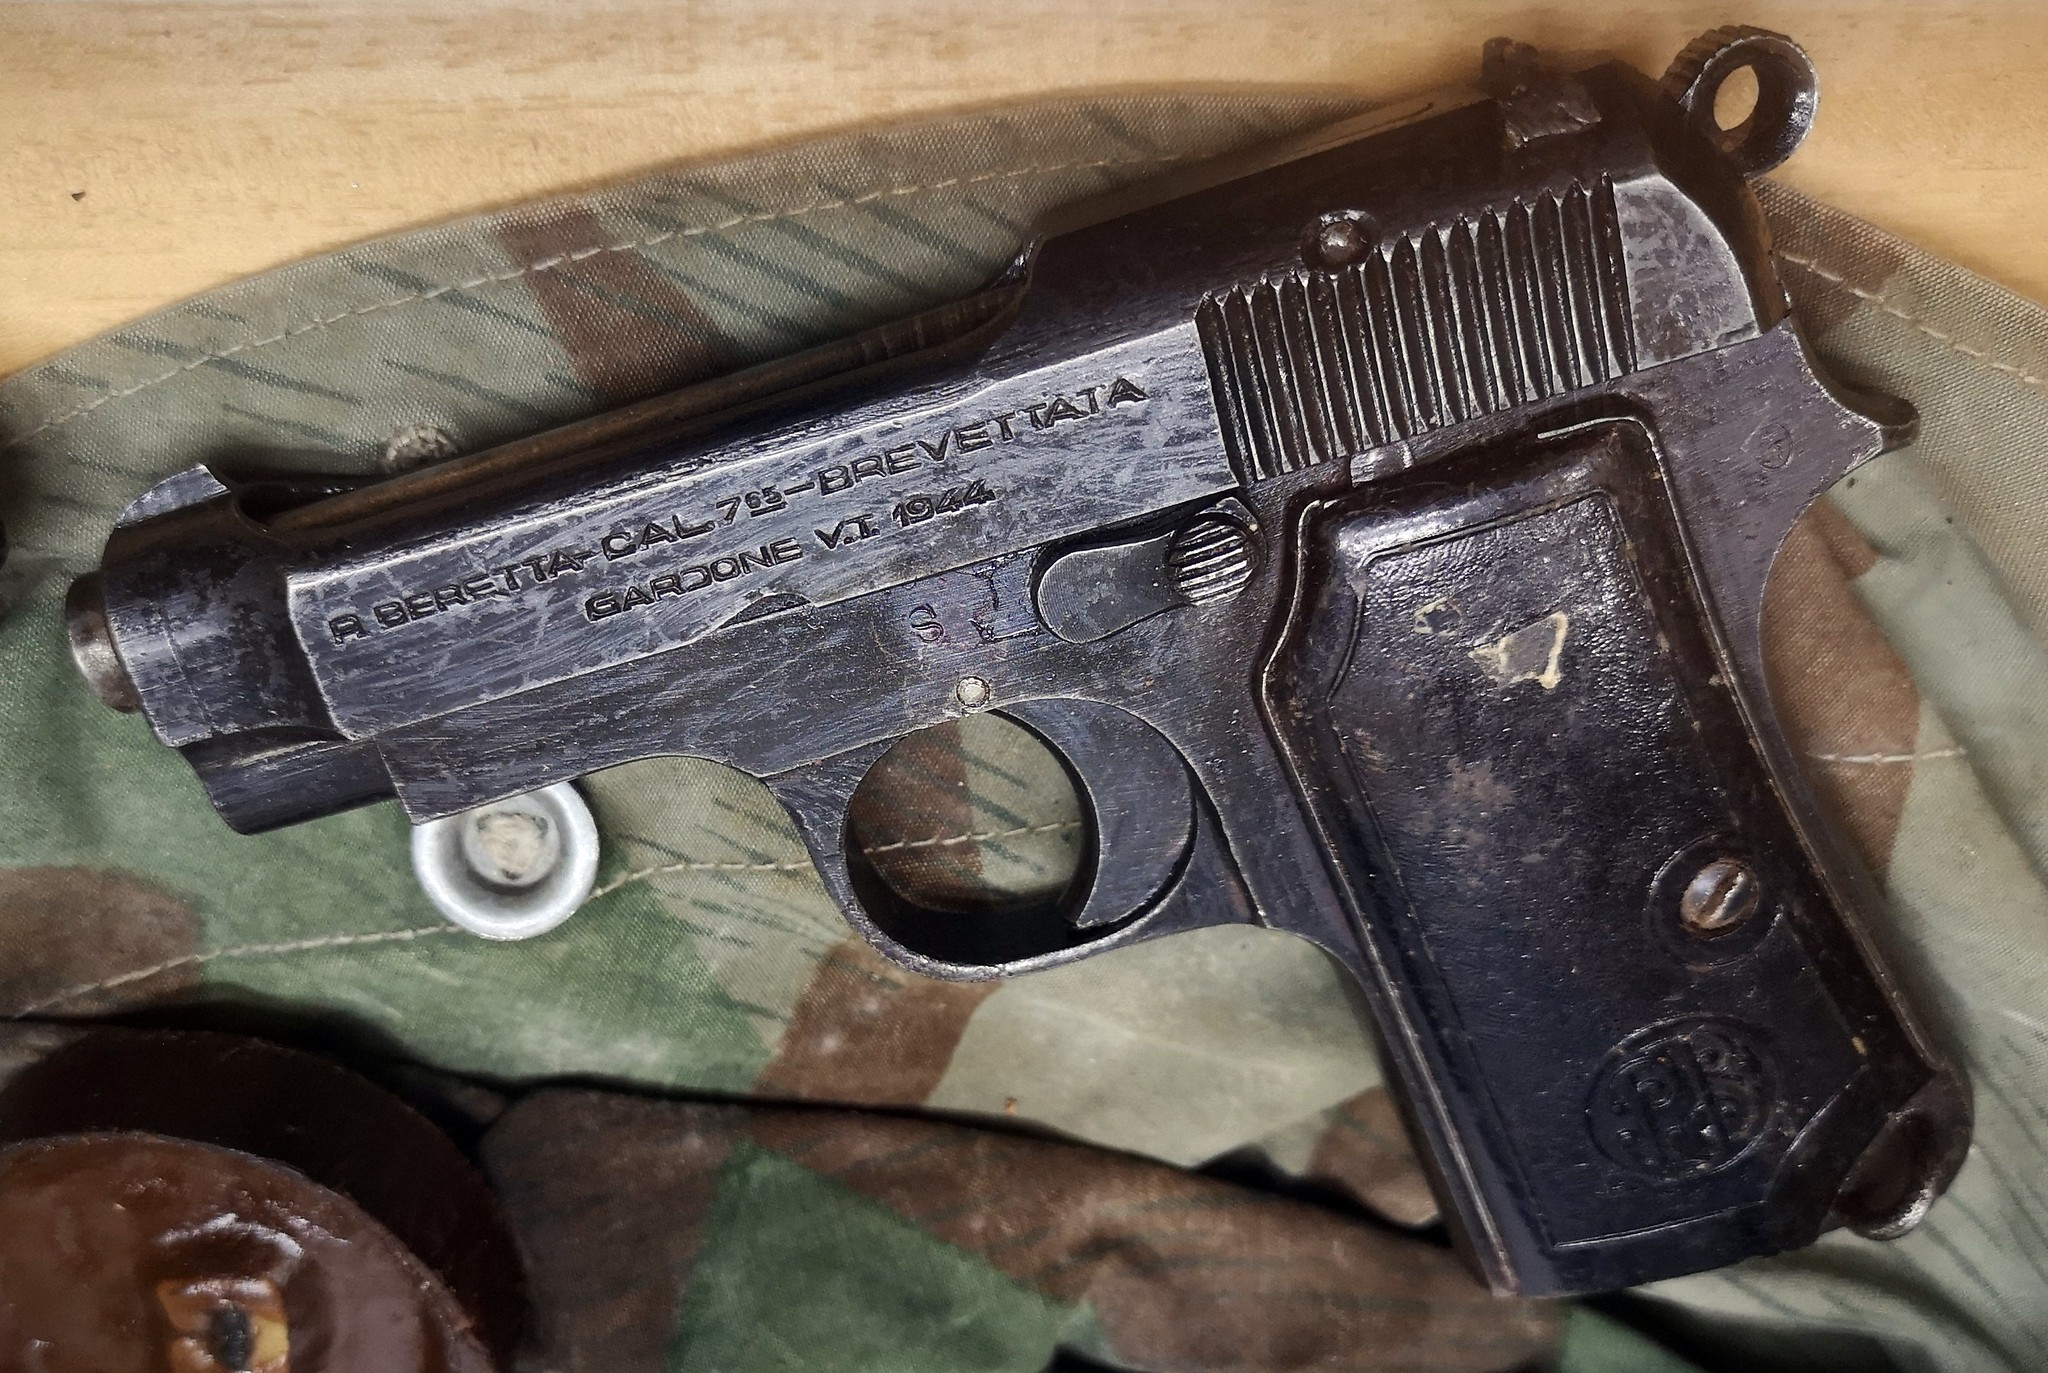gun: (54, 18, 2001, 1318)
